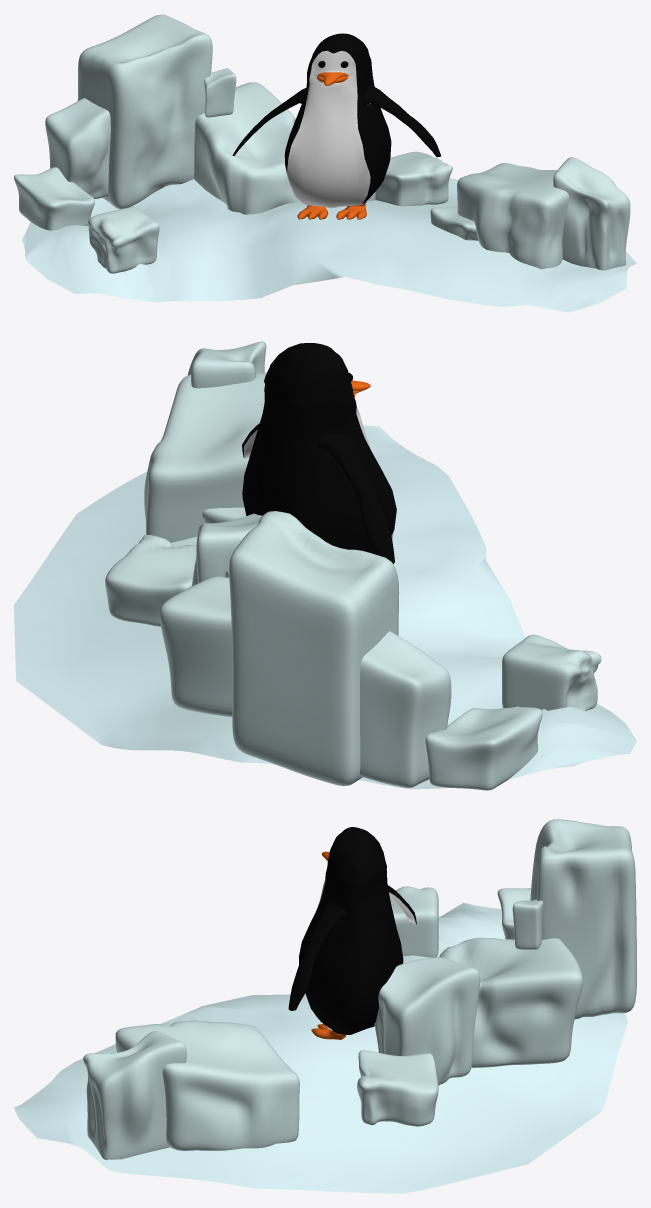
Rendered from penguin.glb.
3 views of the same model, one above another, from view 1: azimuth 30°, elevation 25°; view 2: azimuth 150°, elevation 25°; view 3: azimuth 270°, elevation 25° (orthographic). The views are drawn at different scales.
Parts seen in each view (by area): view 1: 冰面, 企鹅; view 2: 冰面, 企鹅; view 3: 冰面, 企鹅.
Boxes of the visible parts, x1=… form: 冰面: x1=14, y1=14, x2=636, y2=312; 企鹅: x1=232, y1=33, x2=440, y2=219; 冰面: x1=14, y1=341, x2=636, y2=790; 企鹅: x1=242, y1=343, x2=396, y2=563; 冰面: x1=14, y1=819, x2=636, y2=1193; 企鹅: x1=288, y1=827, x2=416, y2=1039.
Bounding box in the file's own units: 4.49 × 1.96 × 4.33.
